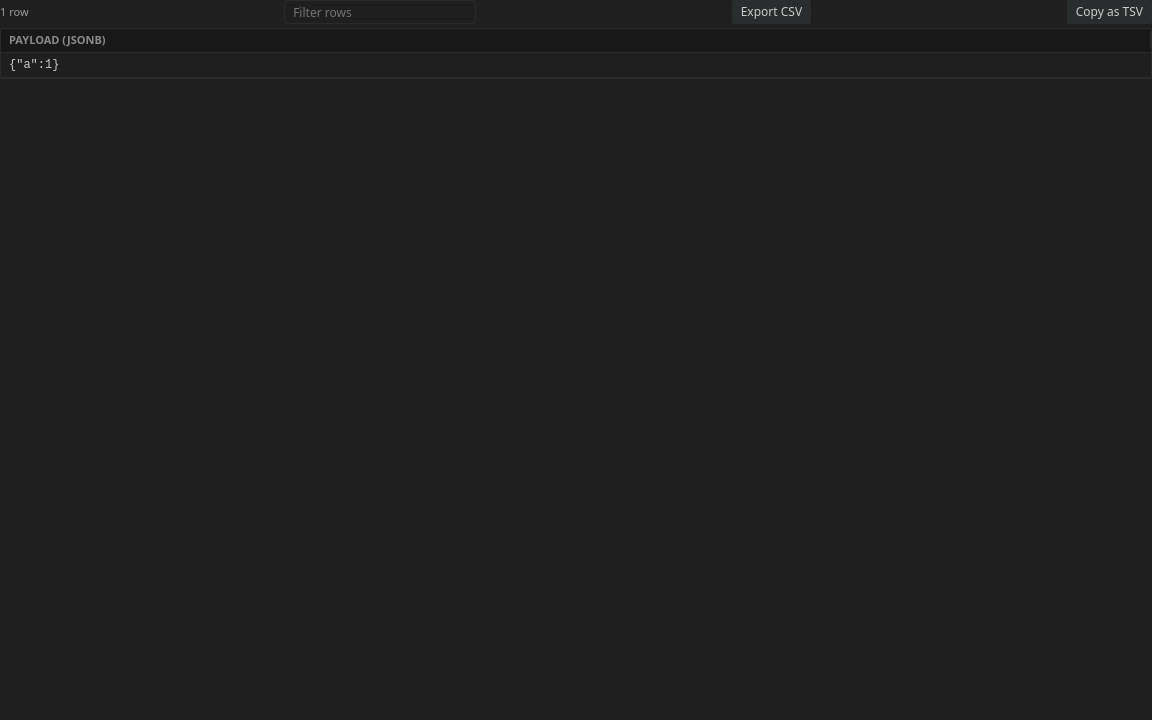
it: ResultsGrid — cell viewer › pretty-prints a cell that parses as JSON
Step 1. Click the text "{\"a\":1}" → x=576, y=65, box [1,52,1151,78]
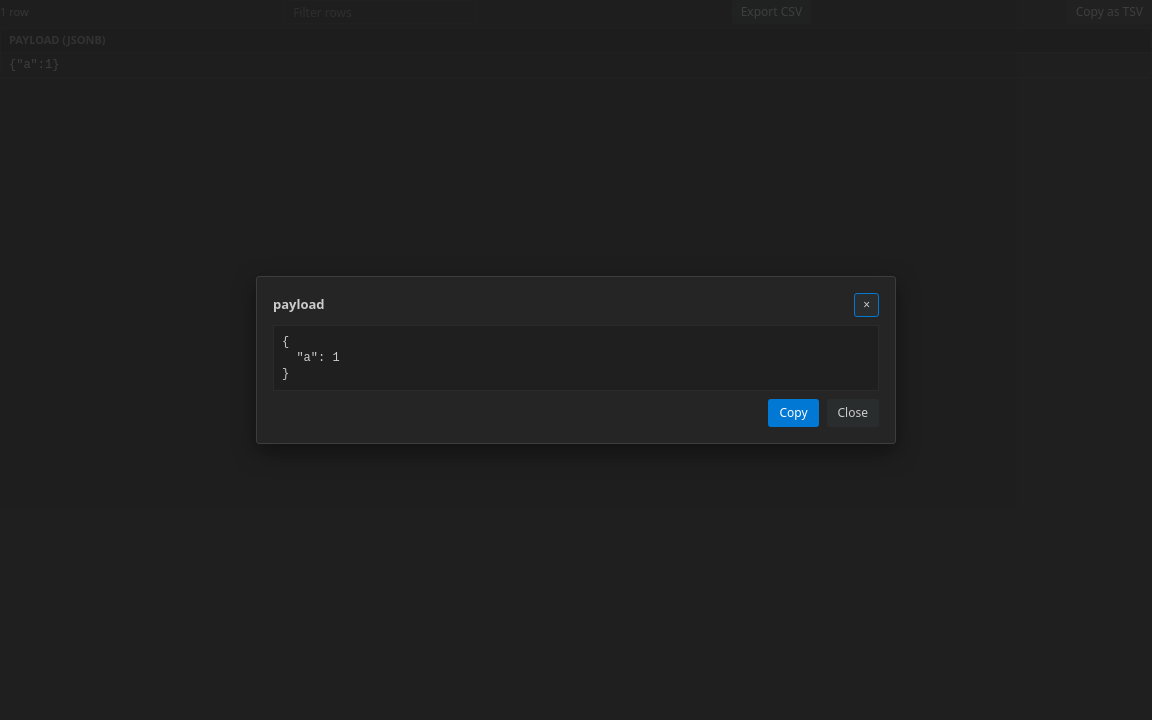
Check: the dialog is shown, box [256,276,896,444]
